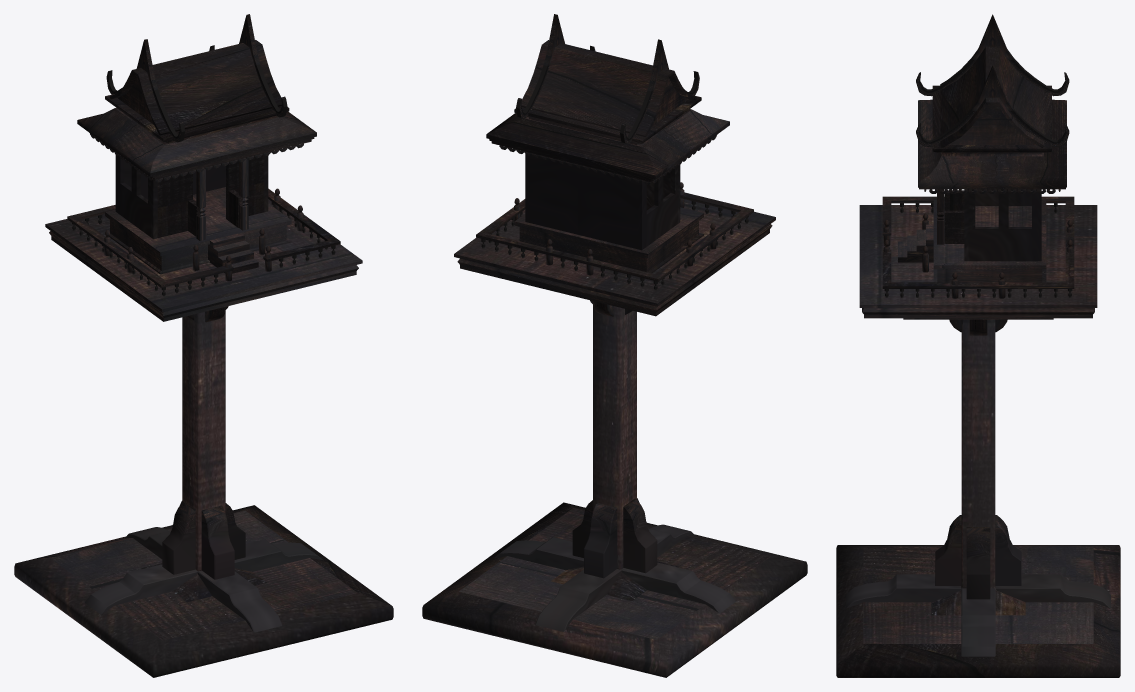
File: Wooden Shrine.fbx
The picture shows the model from 3 angles, left to right: view 1: azimuth 30°, elevation 25°; view 2: azimuth 150°, elevation 25°; view 3: azimuth 270°, elevation 25°; orthographic projection. The views are drawn at different scales.
Visible parts, largest first — view 1: Cube, Cube.003, Cube.004, Cube.007, Cube.014, Cube.015, Cube.010, Cube.009, Plane, Cube.013, Cube.016, Cube.012 (+2 smaller); view 2: Cube, Cube.003, Cube.004, Cube.007, Cube.015, Cube.014, Cube.010, Cube.009, Plane, Circle.001, Cube.012, Cube.017; view 3: Cube, Cube.004, Cube.003, Cube.007, Cube.014, Cube.015, Cube.010, Plane, Cube.009, Cube.013, Cube.012, Circle.001 (+2 smaller).
Boxes of the visible parts, x1=… form: Cube: x1=14, y1=312, x2=393, y2=677; Cube.003: x1=85, y1=501, x2=322, y2=632; Cube.004: x1=45, y1=199, x2=362, y2=321; Cube.007: x1=105, y1=40, x2=289, y2=142; Cube.014: x1=77, y1=107, x2=316, y2=179; Cube.015: x1=115, y1=152, x2=268, y2=239; Cube.010: x1=105, y1=187, x2=291, y2=274; Cube.009: x1=67, y1=188, x2=340, y2=287; Plane: x1=106, y1=14, x2=287, y2=142; Cube.013: x1=208, y1=233, x2=258, y2=273; Cube.016: x1=196, y1=158, x2=248, y2=240; Cube.012: x1=104, y1=188, x2=303, y2=281; Cube: x1=422, y1=306, x2=807, y2=677; Cube.003: x1=494, y1=498, x2=735, y2=631; Cube.004: x1=454, y1=199, x2=775, y2=316; Cube.007: x1=514, y1=40, x2=701, y2=144; Cube.015: x1=525, y1=154, x2=680, y2=250; Cube.014: x1=486, y1=109, x2=729, y2=182; Cube.010: x1=514, y1=207, x2=703, y2=273; Cube.009: x1=476, y1=192, x2=753, y2=281; Plane: x1=516, y1=14, x2=699, y2=144; Circle.001: x1=481, y1=201, x2=748, y2=290; Cube.012: x1=514, y1=182, x2=716, y2=275; Cube.017: x1=499, y1=134, x2=717, y2=184; Cube: x1=836, y1=319, x2=1120, y2=677; Cube.004: x1=859, y1=205, x2=1097, y2=318; Cube.003: x1=846, y1=515, x2=1110, y2=656; Cube.007: x1=932, y1=46, x2=1051, y2=152; Cube.014: x1=918, y1=99, x2=1066, y2=189; Cube.015: x1=944, y1=189, x2=1041, y2=261; Cube.010: x1=933, y1=199, x2=1046, y2=282; Plane: x1=916, y1=14, x2=1069, y2=146; Cube.009: x1=882, y1=196, x2=1074, y2=288; Cube.013: x1=898, y1=224, x2=933, y2=262; Cube.012: x1=883, y1=189, x2=1073, y2=298; Circle.001: x1=884, y1=203, x2=1072, y2=297.
Size of the model in its own units: 50 by 50 by 112.
Materials: 1 (1 with a texture image).
